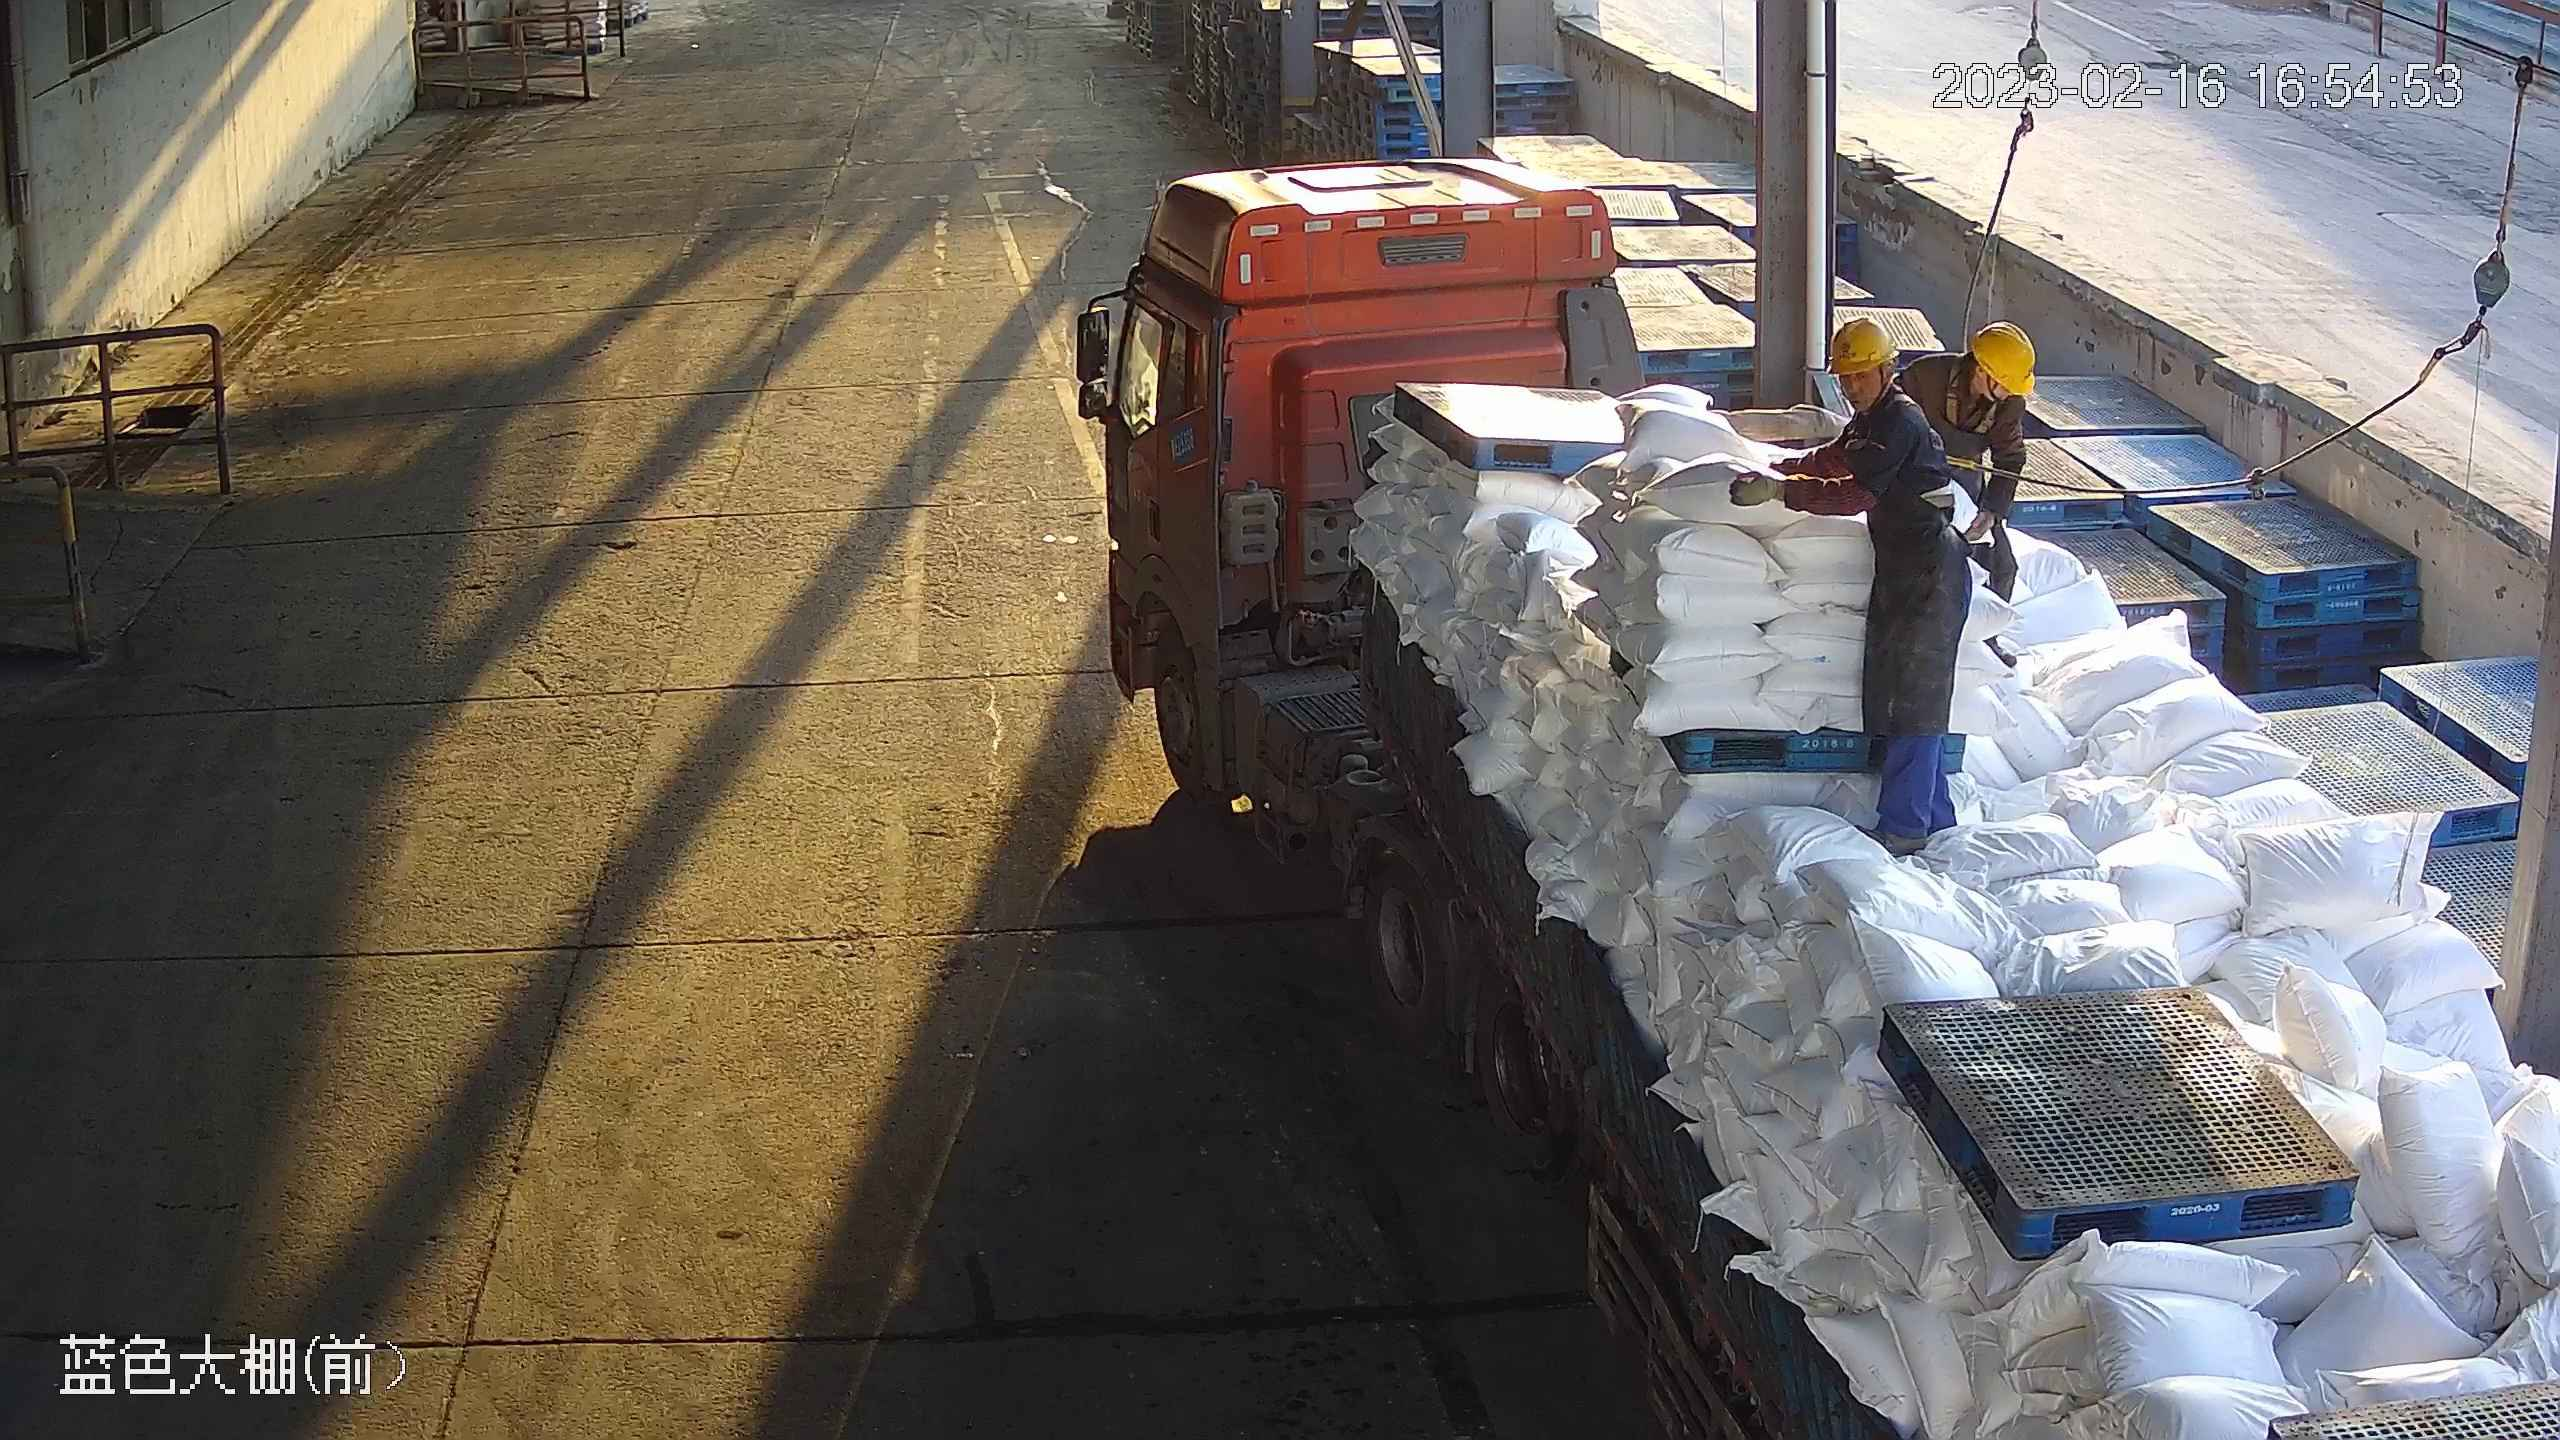belt: (1845, 394, 1974, 508), (1948, 353, 1997, 432)
head: (1827, 315, 1944, 473), (1912, 320, 2036, 449)
helmet: (1970, 320, 2036, 395), (1827, 315, 1900, 376)
people: (1727, 316, 1974, 857), (1893, 320, 2036, 666)
truck: (1072, 154, 2560, 1440)
